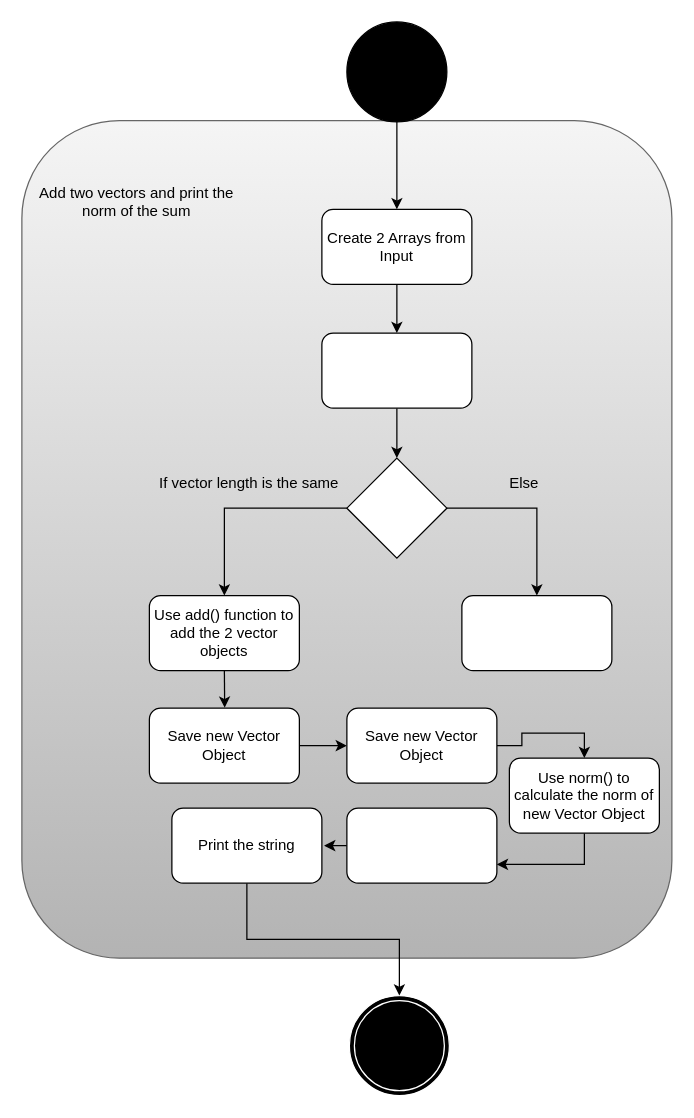
The diagram is 694 pixels wide and 1118 high, and some of its shapes have lost their labels. The centre of each missing label's shape, as x and y in pixels:
Convert Vector object to a string: [421,845]
Create a Vector objects for each array: [396,370]
Raise Exception: [536,632]
